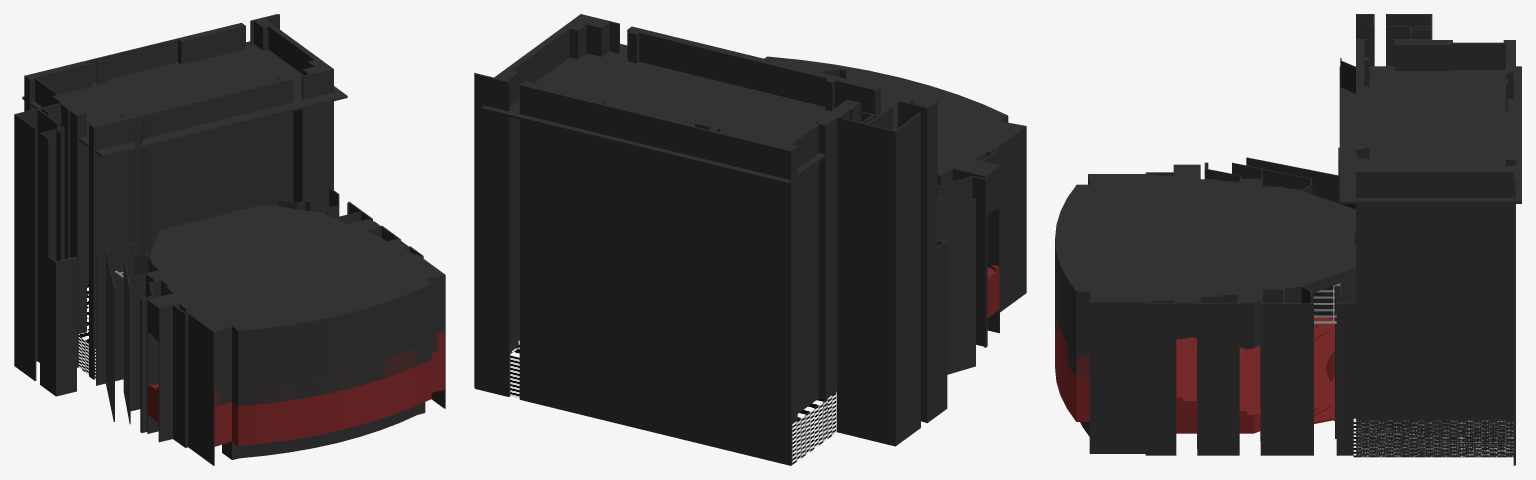
File: clocks.glb
3 views of the same model, side by side, from view 1: azimuth 30°, elevation 25°; view 2: azimuth 150°, elevation 25°; view 3: azimuth 270°, elevation 25° (orthographic). The views are drawn at different scales.
Visible parts, largest first — view 1: Solid_Addition_3D-Walls_14633838859696449555_746816827380330, Solid_Subtraction_3D-Roof_4546382776609502440_64141900795553, Floor_400x400, Solid_Subtraction_3D-Audience_13841424641910897993_125795465, Extrude_3D-Walls_5988327885719599022_14019684355915828788, Extrude_3D-Walls_800000467940258835_8437571291915685133, Extrude_3D-Stage_1736454633049646852_18095159649155377160; view 2: Solid_Addition_3D-Walls_14633838859696449555_746816827380330, Extrude_3D-Walls_5988327885719599022_14019684355915828788, Floor_400x400, Solid_Subtraction_3D-Roof_4546382776609502440_64141900795553, Extrude_3D-Stage_1736454633049646852_18095159649155377160, Solid_Subtraction_3D-Audience_13841424641910897993_125795465; view 3: Solid_Addition_3D-Walls_14633838859696449555_746816827380330, Solid_Subtraction_3D-Roof_4546382776609502440_64141900795553, Floor_400x400, Solid_Subtraction_3D-Audience_13841424641910897993_125795465, Extrude_3D-Stage_1736454633049646852_18095159649155377160, Extrude_3D-Walls_800000467940258835_8437571291915685133.
Boxes of the visible parts, left/top/right/bottom form: Solid_Addition_3D-Walls_14633838859696449555_746816827380330: left=14, top=14, right=445, bottom=465; Solid_Subtraction_3D-Roof_4546382776609502440_64141900795553: left=148, top=204, right=444, bottom=406; Floor_400x400: left=22, top=41, right=347, bottom=157; Solid_Subtraction_3D-Audience_13841424641910897993_125795465: left=148, top=331, right=444, bottom=446; Extrude_3D-Walls_5988327885719599022_14019684355915828788: left=105, top=38, right=177, bottom=78; Extrude_3D-Walls_800000467940258835_8437571291915685133: left=134, top=115, right=144, bottom=255; Extrude_3D-Stage_1736454633049646852_18095159649155377160: left=78, top=284, right=95, bottom=379; Solid_Addition_3D-Walls_14633838859696449555_746816827380330: left=474, top=14, right=1026, bottom=465; Extrude_3D-Walls_5988327885719599022_14019684355915828788: left=600, top=104, right=691, bottom=441; Floor_400x400: left=481, top=43, right=886, bottom=184; Solid_Subtraction_3D-Roof_4546382776609502440_64141900795553: left=764, top=56, right=1024, bottom=213; Extrude_3D-Stage_1736454633049646852_18095159649155377160: left=510, top=339, right=836, bottom=464; Solid_Subtraction_3D-Audience_13841424641910897993_125795465: left=987, top=264, right=999, bottom=317; Solid_Addition_3D-Walls_14633838859696449555_746816827380330: left=1072, top=14, right=1515, bottom=465; Solid_Subtraction_3D-Roof_4546382776609502440_64141900795553: left=1055, top=164, right=1355, bottom=376; Floor_400x400: left=1339, top=66, right=1521, bottom=203; Solid_Subtraction_3D-Audience_13841424641910897993_125795465: left=1055, top=315, right=1335, bottom=433; Extrude_3D-Stage_1736454633049646852_18095159649155377160: left=1353, top=418, right=1513, bottom=457; Extrude_3D-Walls_800000467940258835_8437571291915685133: left=1340, top=58, right=1355, bottom=244.
Bounding box in the file's own units: 31.88 × 26.32 × 37.75.
14 materials, 6 textured.
